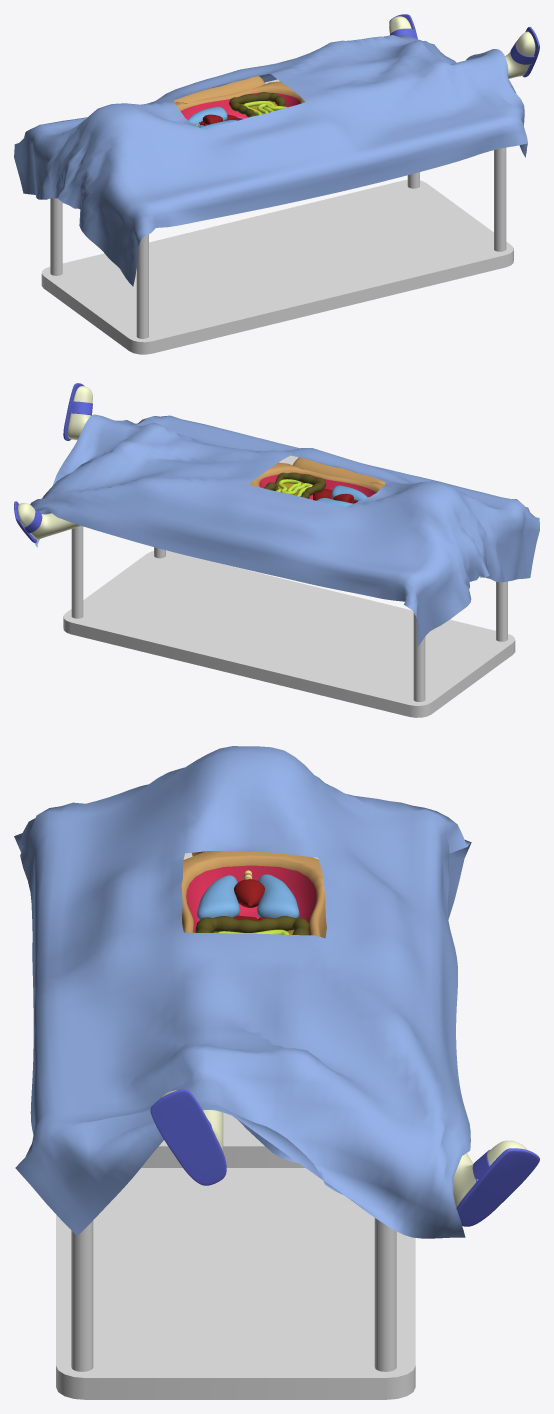
The model's file is cavidad.fbx.
3 renders of one model, top to bottom at view 1: azimuth 30°, elevation 25°; view 2: azimuth 150°, elevation 25°; view 3: azimuth 270°, elevation 25°, orthographic. The views are drawn at different scales.
Visible parts, largest first — view 1: Tela, mesaPROXY, Persona, Cavidad, Intestino_kavida, Pulmones_kavida; view 2: Tela, mesaPROXY, Persona, Cavidad, Intestino_kavida, Pulmones_kavida; view 3: Tela, mesaPROXY, Persona, Cavidad, Pulmones_kavida, Intestino_kavida.
Part boxes in pixels (x1,y1,x2,y2): Tela: (14,34,527,286); mesaPROXY: (41,79,513,354); Persona: (174,14,539,102); Cavidad: (175,81,305,119); Intestino_kavida: (229,92,287,117); Pulmones_kavida: (188,106,237,129); Tela: (30,414,539,647); mesaPROXY: (63,455,515,717); Persona: (14,383,385,542); Cavidad: (249,462,384,498); Intestino_kavida: (263,472,325,498); Pulmones_kavida: (316,485,367,507); Tela: (14,746,471,1238); mesaPROXY: (56,853,415,1399); Persona: (150,851,539,1226); Cavidad: (181,851,326,938); Pulmones_kavida: (197,870,299,920); Intestino_kavida: (195,915,309,935).
Bounding box in the file's own units: 228 × 95.72 × 130.
